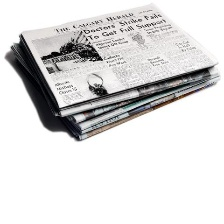news_paper: (5, 0, 219, 143)
